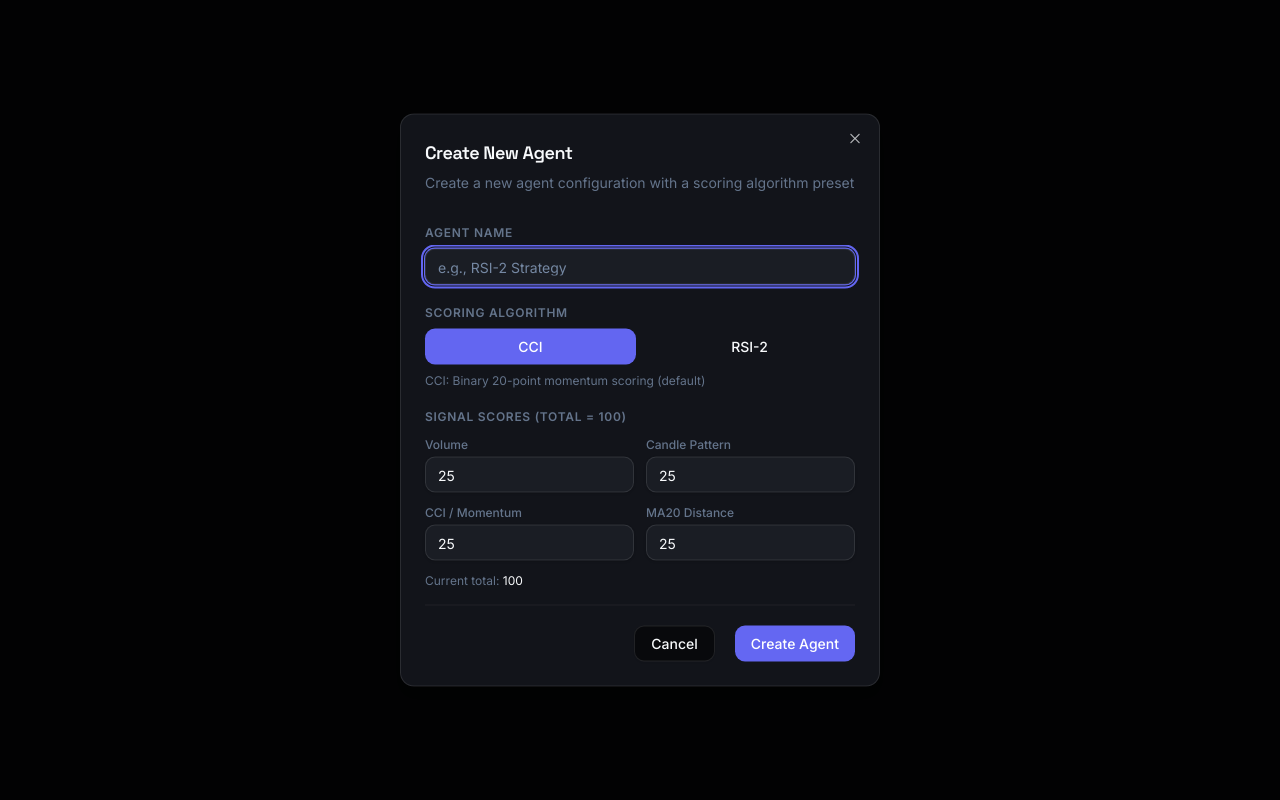
Test: CreateAgentDialog › blocks submit when any score is not a valid integer
This screenshot has width=1280, height=800.
In the field labelled "Agent Name": (640, 266) [425,248,855,284], type "Out of Range"
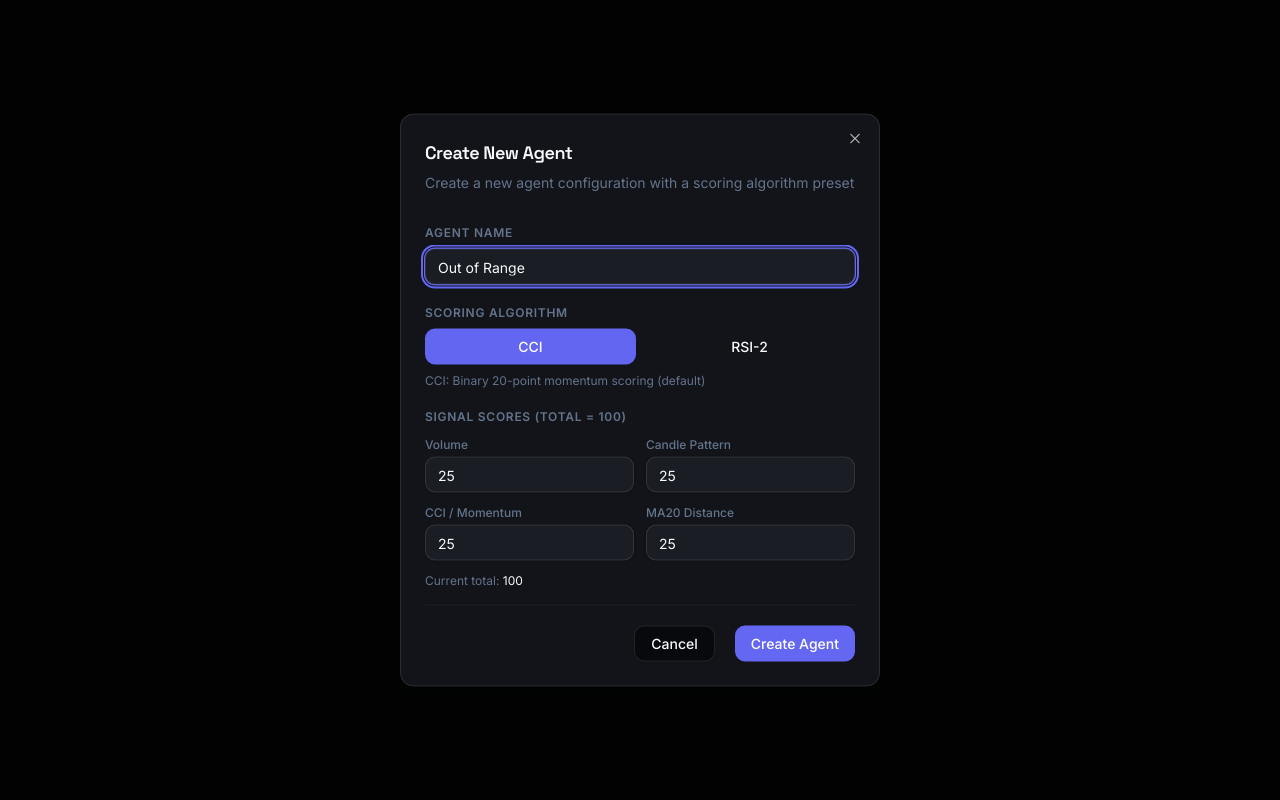
Clear the number field labelled "Volume": (530, 474) [425,456,634,492]
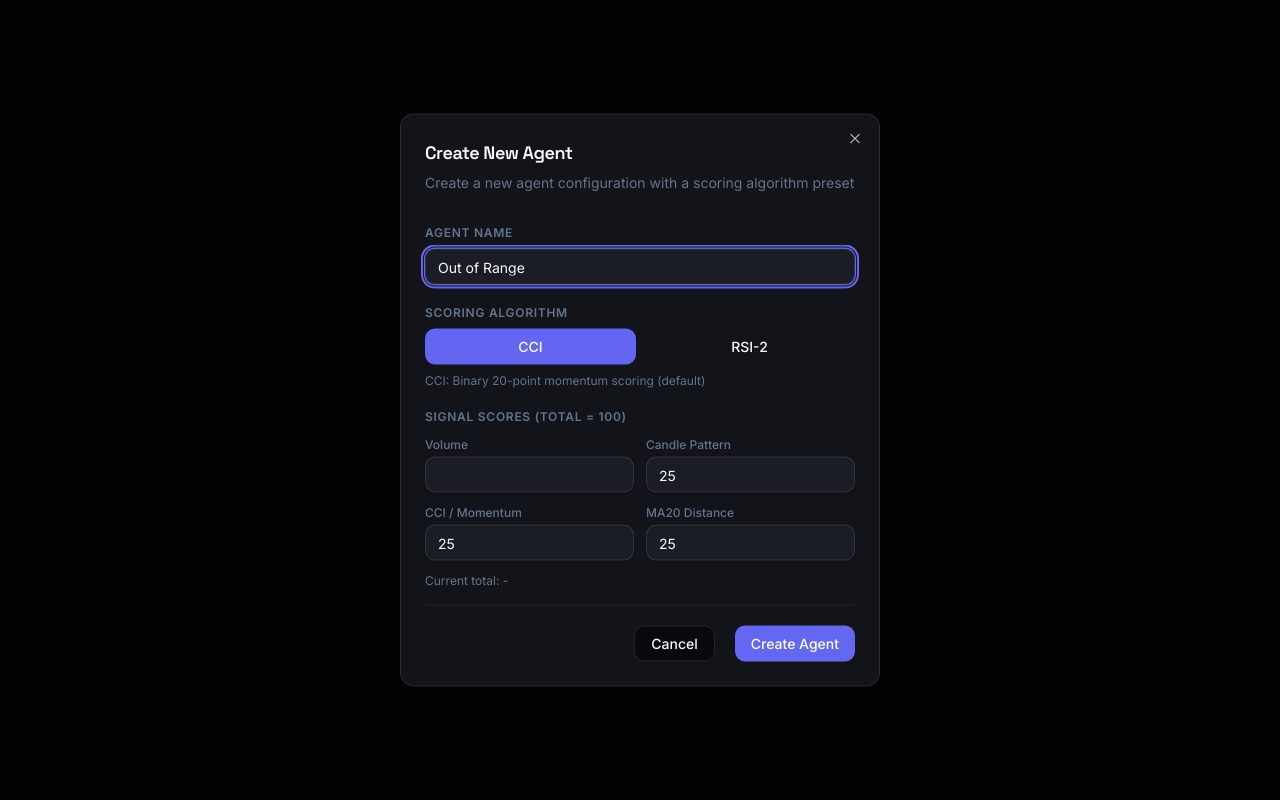
Click the button "Create Agent": (795, 644) [735,626,855,662]
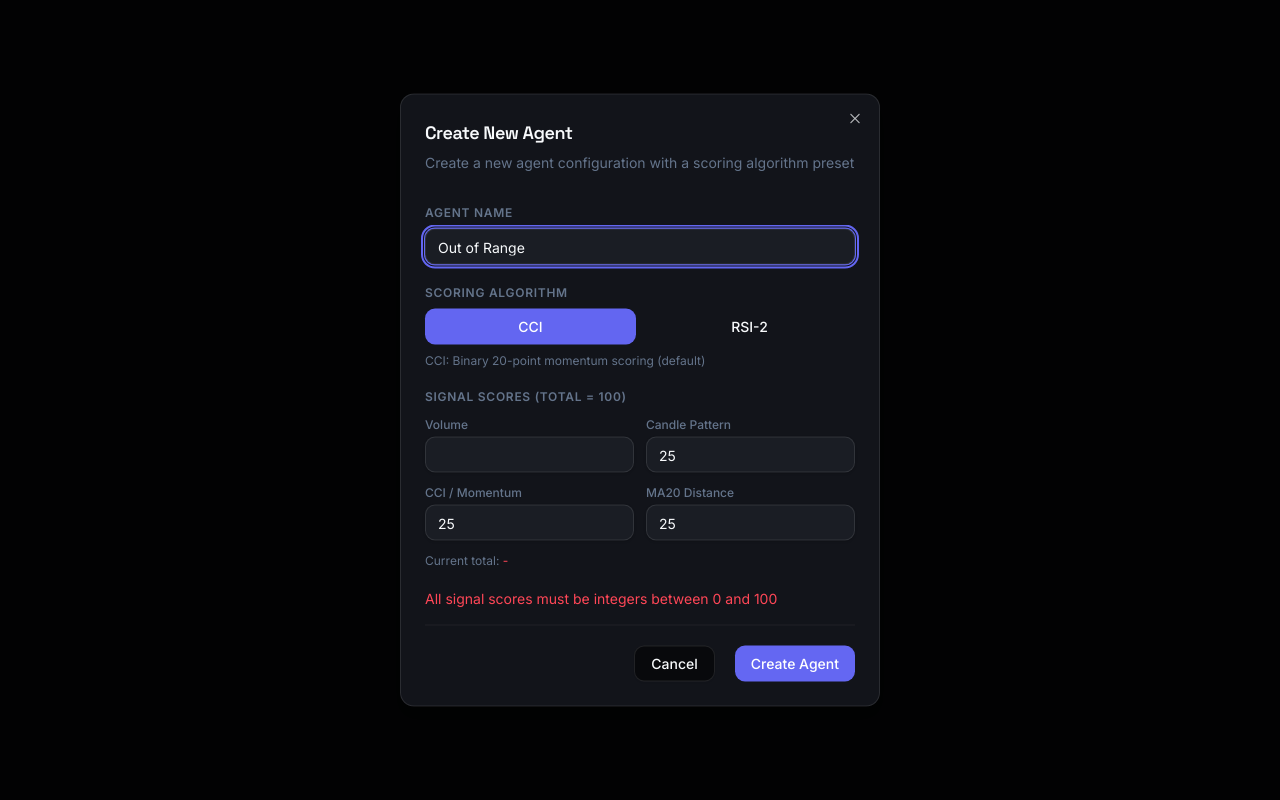
Result: the text "All signal scores must be integers between 0 and 100" is shown at [425,590,777,606]
